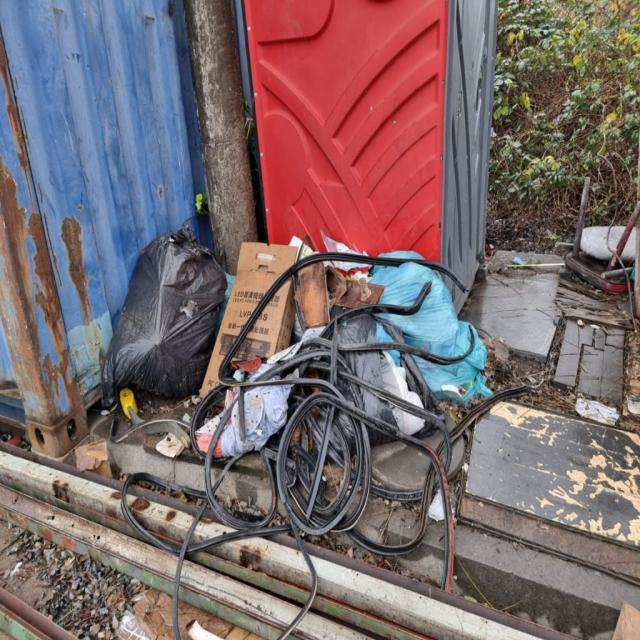garbage: (82, 193, 495, 638)
